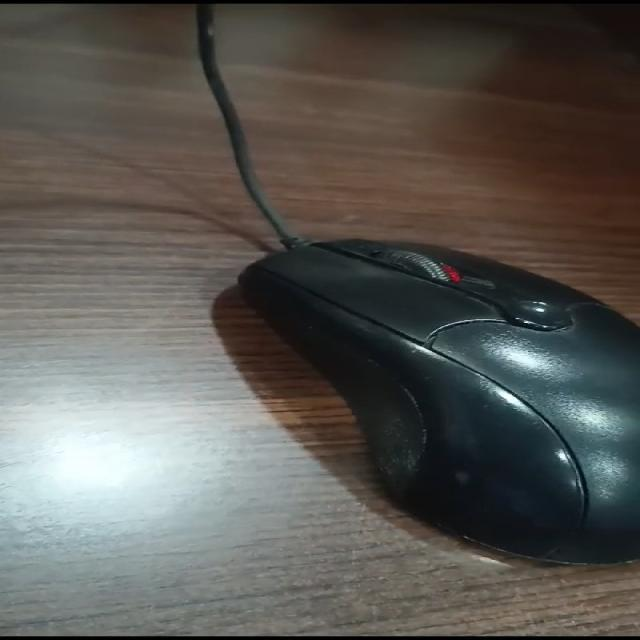mouse: (198, 232, 640, 584)
